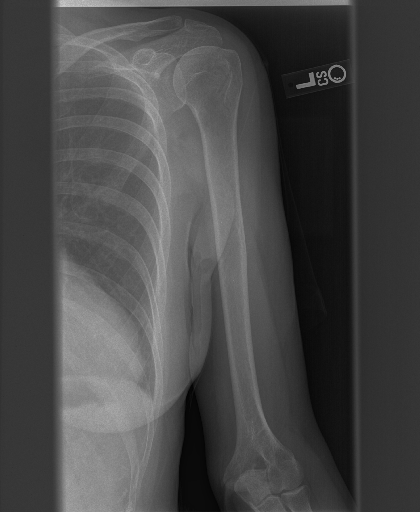fracture: (199, 160, 256, 295)
